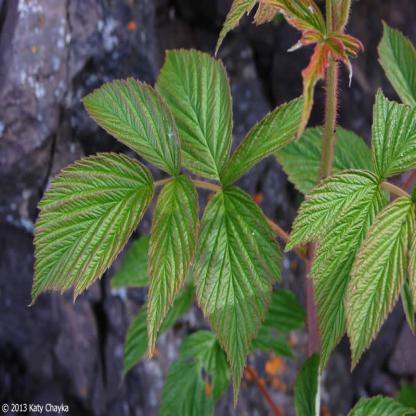Raspberry leaf: (280, 167, 380, 373), (26, 152, 154, 308), (194, 181, 282, 403), (338, 196, 414, 376), (133, 172, 201, 363), (78, 77, 186, 174), (162, 42, 232, 177), (225, 96, 305, 180), (374, 86, 416, 180)
